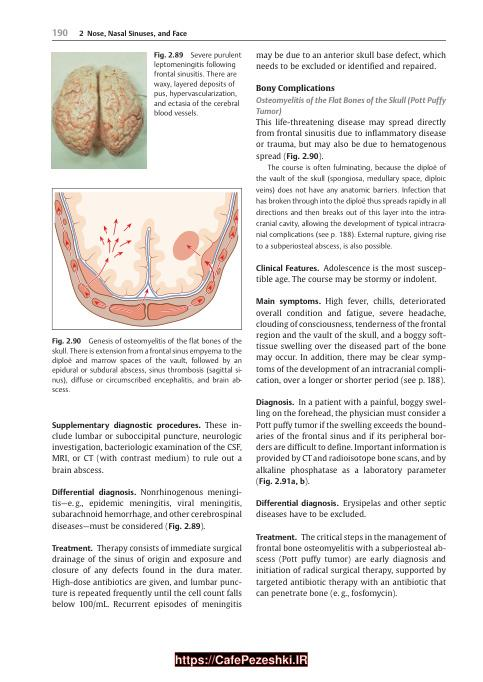caption: (51, 337, 243, 393), (153, 51, 243, 118)
header: (77, 29, 188, 39)
image: (50, 188, 242, 330), (51, 51, 147, 169)
sub-section-heading: (51, 420, 201, 431), (51, 488, 137, 498), (255, 498, 340, 508), (255, 84, 335, 94), (255, 297, 322, 307), (255, 263, 320, 272), (255, 398, 295, 408), (51, 544, 94, 552), (255, 533, 298, 541)
text: (255, 96, 447, 252), (254, 398, 448, 488), (255, 297, 447, 387), (254, 532, 448, 600), (51, 544, 243, 611), (51, 419, 243, 475), (50, 487, 243, 531), (254, 263, 447, 285), (255, 498, 447, 519)
